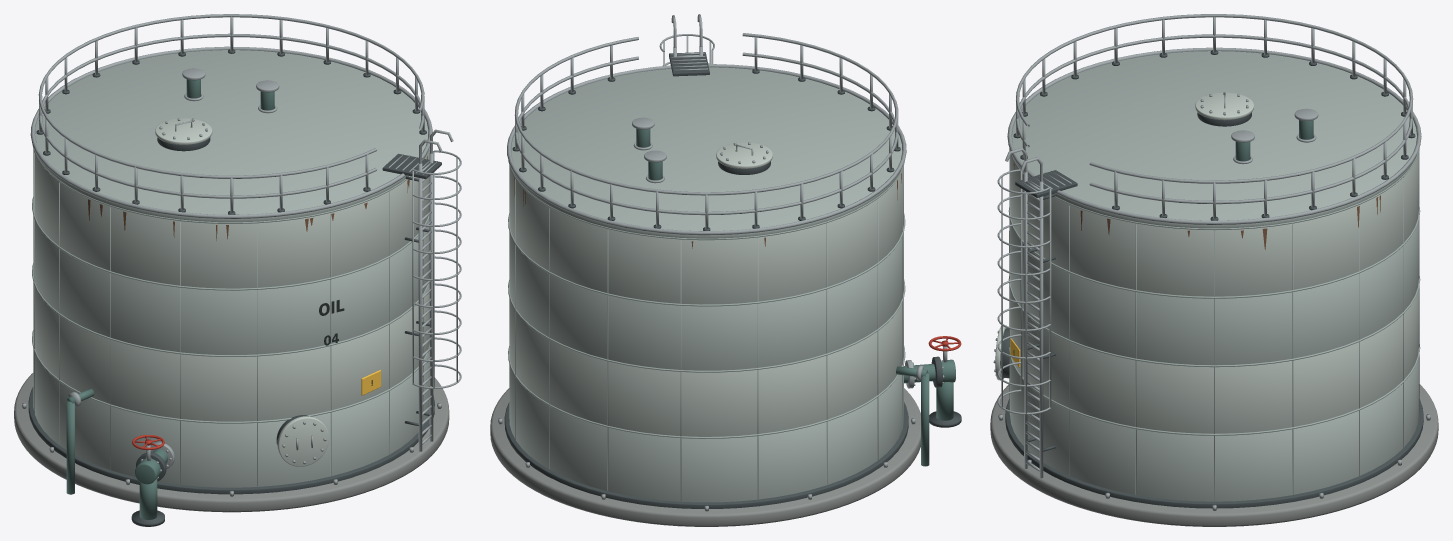
File: oil_cistern.glb
3 views of the same model, side by side, from view 1: azimuth 30°, elevation 25°; view 2: azimuth 150°, elevation 25°; view 3: azimuth 270°, elevation 25° (orthographic). The views are drawn at different scales.
Parts seen in each view (by area): view 1: 01 Корпус, 02 Крыша и ограждение, 06 Основание, 03 Лестница, 04 Трубопроводы, 05 Маркировка; view 2: 01 Корпус, 02 Крыша и ограждение, 06 Основание, 04 Трубопроводы, 03 Лестница; view 3: 01 Корпус, 02 Крыша и ограждение, 06 Основание, 03 Лестница, 04 Трубопроводы.
Boxes of the visible parts, x1,y1,x2,y2 form: 01 Корпус: (32,145,429,487); 02 Крыша и ограждение: (30,14,432,222); 06 Основание: (14,373,449,512); 03 Лестница: (382,129,461,451); 04 Трубопроводы: (66,388,328,526); 05 Маркировка: (319,300,381,395); 01 Корпус: (508,160,905,502); 02 Крыша и ограждение: (507,33,906,238); 06 Основание: (490,388,920,526); 04 Трубопроводы: (896,336,961,466); 03 Лестница: (659,14,714,76); 01 Корпус: (1008,148,1420,501); 02 Крыша и ограждение: (1007,14,1421,228); 06 Основание: (990,384,1438,526); 03 Лестница: (997,148,1077,478); 04 Трубопроводы: (993,325,1009,380).
Size of the model in its own units: 11.12 by 9.16 by 10.96.
